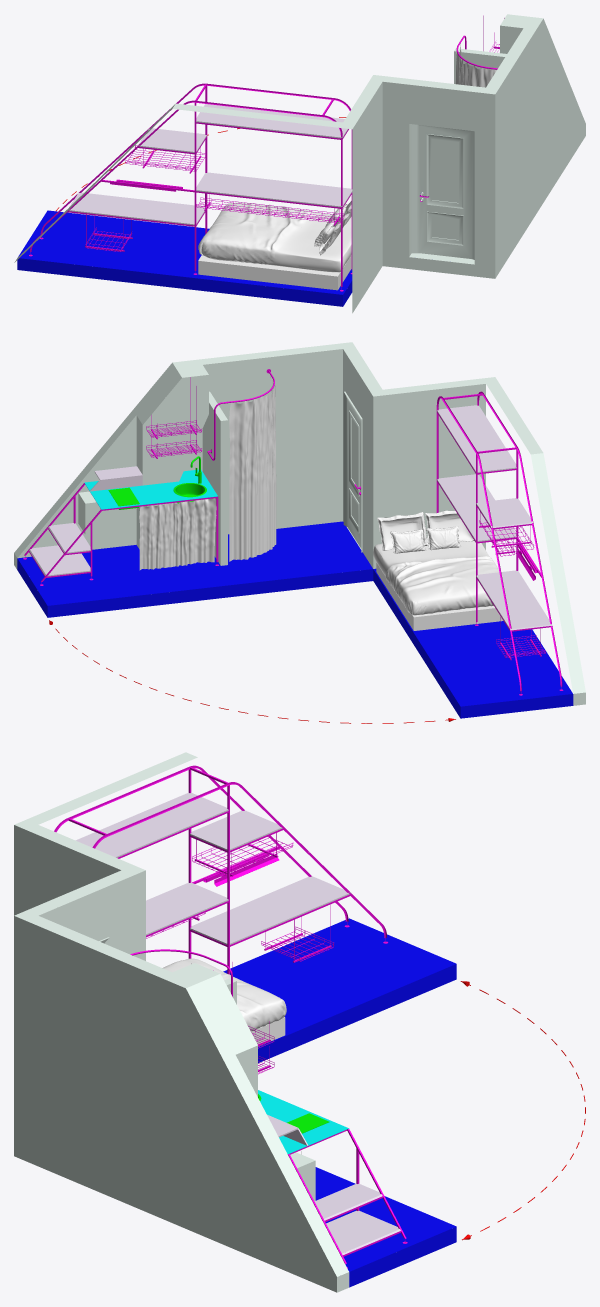
Rendered from 3D_projet.glb.
The picture shows the model from 3 angles, top to bottom: view 1: azimuth 30°, elevation 25°; view 2: azimuth 150°, elevation 25°; view 3: azimuth 270°, elevation 25°; orthographic projection. The views are drawn at different scales.
Parts seen in each view (by area): view 1: Calque 01, Calque 03, Calque 07, Calque 05, Calque 04; view 2: Calque 01, Calque 03, Calque 07, Calque 05, Calque 04, Calque 06, Calque 02; view 3: Calque 01, Calque 03, Calque 05, Calque 04, Calque 07, Calque 06.
Part boxes in pixels (<box>): Calque 01: <box>14,14,585,313</box>; Calque 03: <box>17,210,352,306</box>; Calque 07: <box>198,43,496,290</box>; Calque 05: <box>69,104,352,225</box>; Calque 04: <box>29,15,504,291</box>; Calque 01: <box>14,342,585,705</box>; Calque 03: <box>17,521,573,718</box>; Calque 07: <box>139,376,503,630</box>; Calque 05: <box>29,405,552,630</box>; Calque 04: <box>23,369,563,695</box>; Calque 06: <box>84,469,217,509</box>; Calque 02: <box>108,456,206,509</box>; Calque 01: <box>14,752,349,1292</box>; Calque 03: <box>223,918,456,1287</box>; Calque 05: <box>75,792,400,1254</box>; Calque 04: <box>54,765,407,1268</box>; Calque 07: <box>162,958,301,1154</box>; Calque 06: <box>258,1090,348,1154</box>.
Size of the model in its own units: 0.0998 by 0.0312 by 0.0663.
